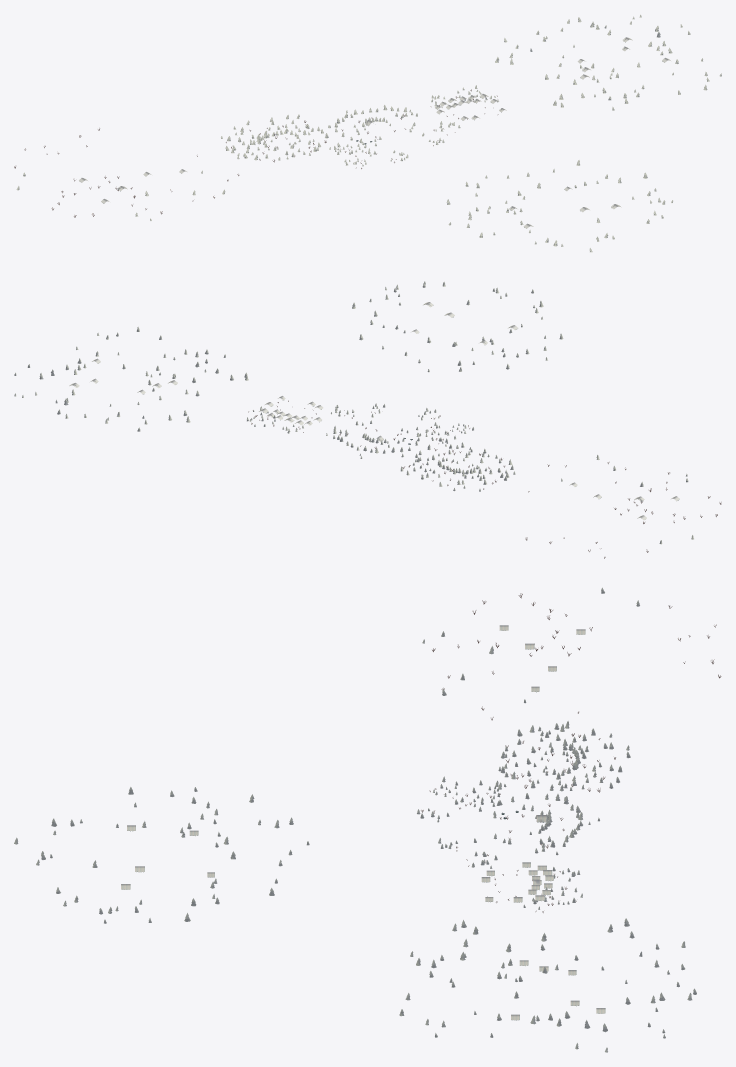
File: season_winter.glb
3 renders of one model, top to bottom at view 1: azimuth 30°, elevation 25°; view 2: azimuth 150°, elevation 25°; view 3: azimuth 270°, elevation 25°, orthographic. The views are drawn at different scales.
Bounding box in the file's own units: 383 × 7.21 × 249.
